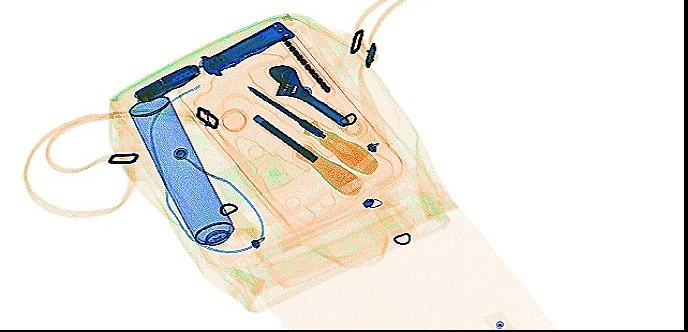knife: (199, 20, 296, 76), (132, 62, 199, 103)
pressure: (127, 94, 247, 268)
